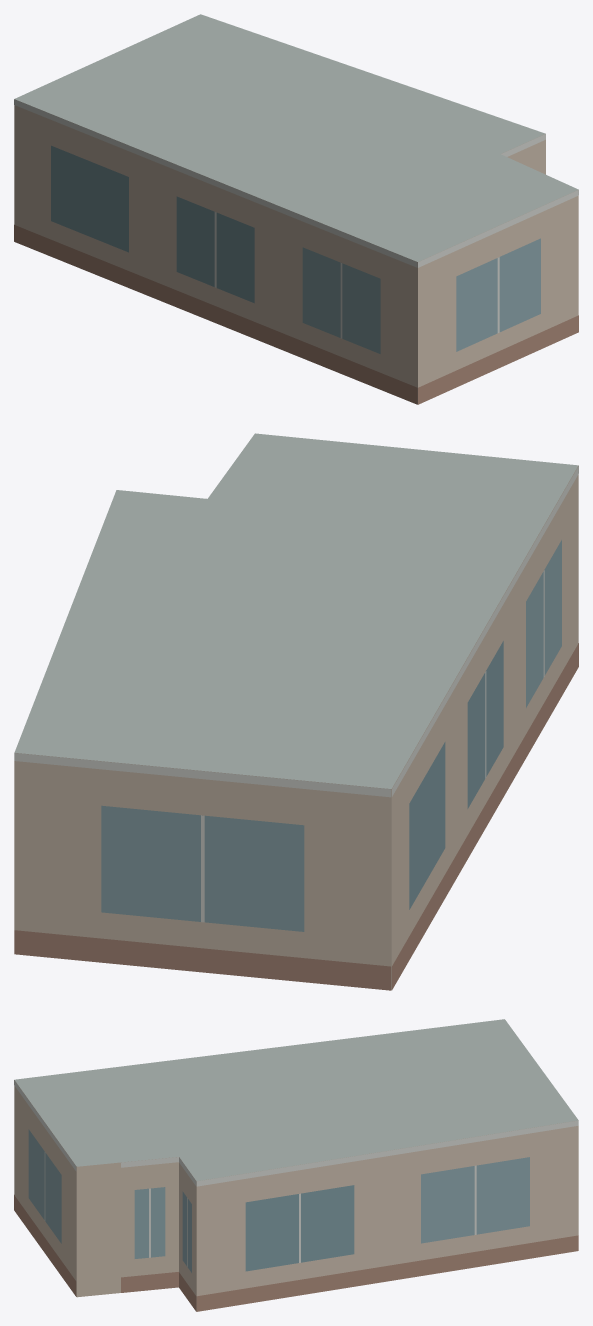
File: survey-upis-32613909.glb
The picture shows the model from 3 angles, top to bottom: view 1: azimuth 30°, elevation 25°; view 2: azimuth 150°, elevation 25°; view 3: azimuth 270°, elevation 25°; orthographic projection. The views are drawn at different scales.
Parts seen in each view (by area): view 1: survey-upis-32613909.tmp; view 2: survey-upis-32613909.tmp; view 3: survey-upis-32613909.tmp.
Boxes of the visible parts, x1,y1,x2,y2 form: survey-upis-32613909.tmp: (14,14,578,404); survey-upis-32613909.tmp: (14,433,578,990); survey-upis-32613909.tmp: (14,1019,578,1311).
Size of the model in its own units: 8.14 by 3.05 by 11.97.
